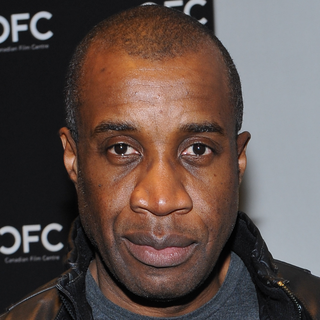eye: (177, 139, 222, 165), (100, 138, 145, 164)
